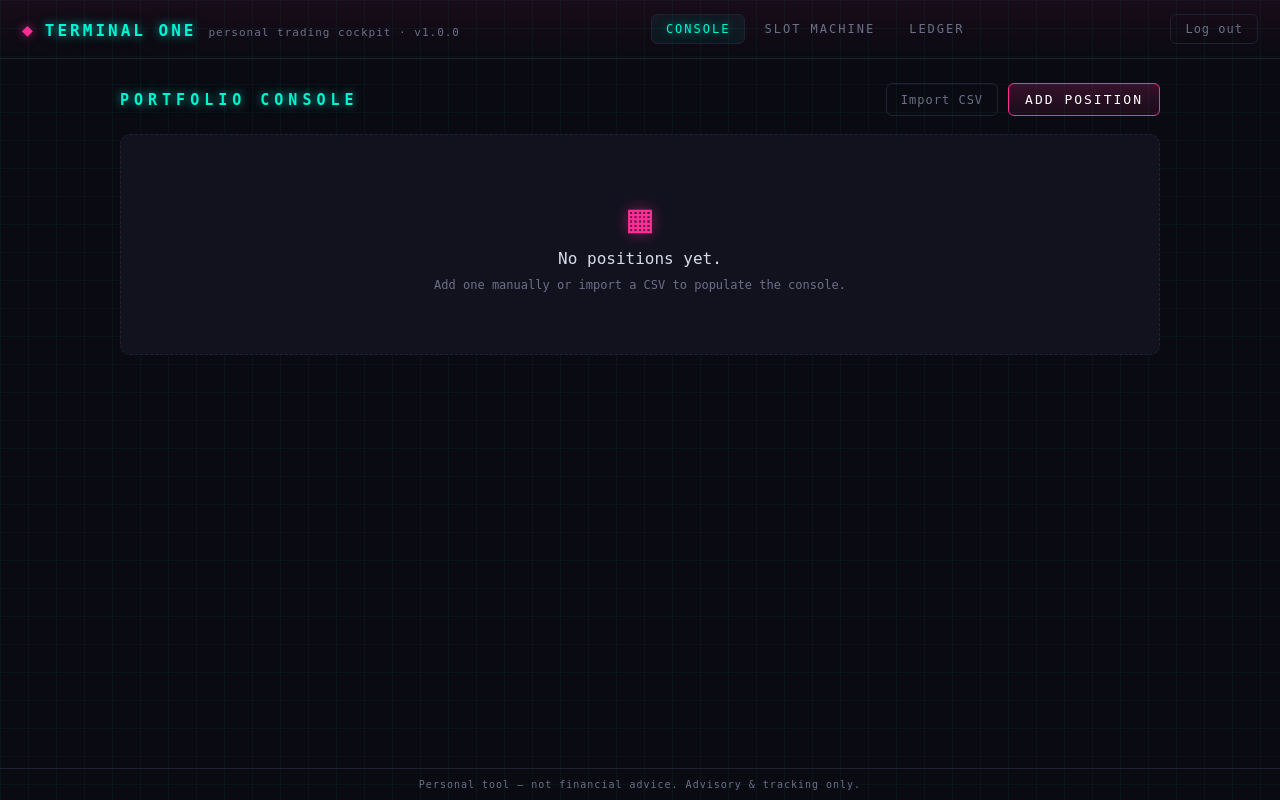
App screens (Phase 7 AC5) › switches to the Slot Machine screen and back, never showing both
expect the heading "PORTFOLIO CONSOLE" is shown: met, box top-left (120, 90), bottom-right (358, 108)
Click the button "Slot Machine".
click(820, 29)  # box top-left (750, 14), bottom-right (890, 44)
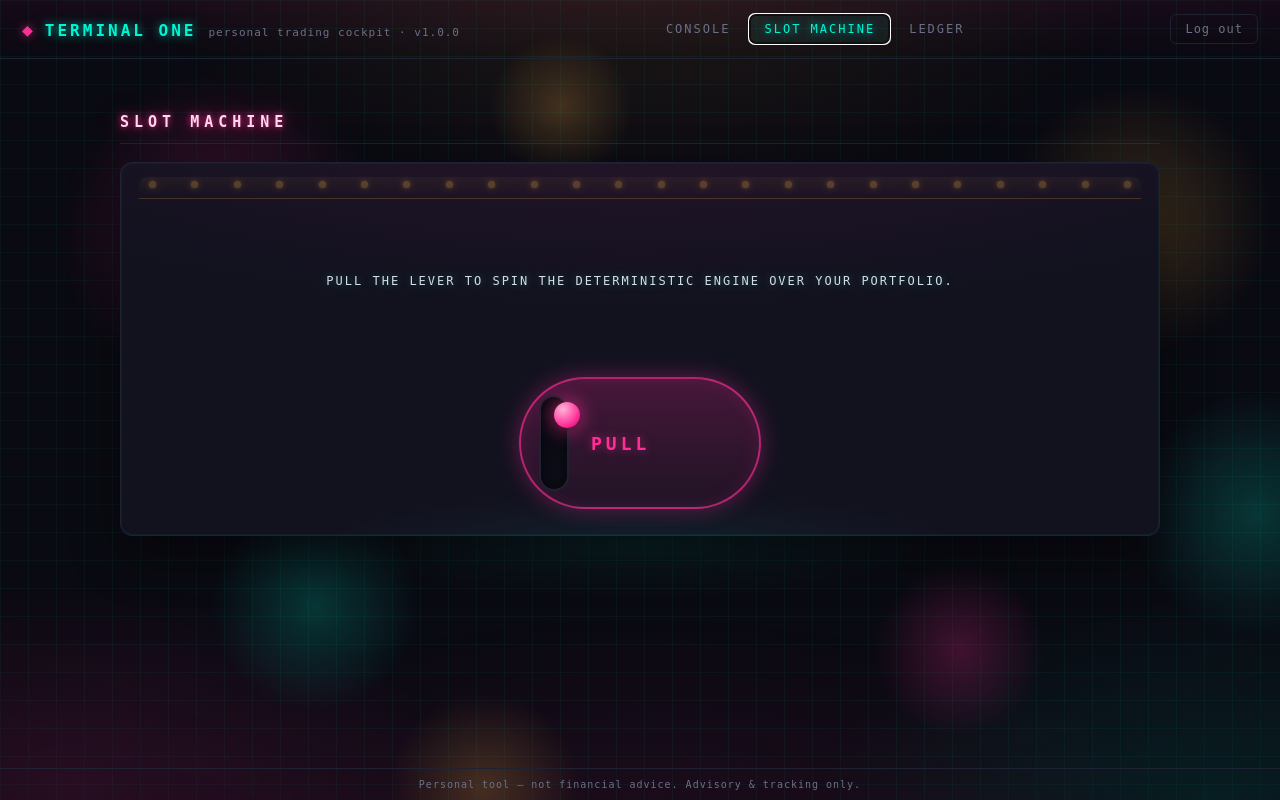
expect the element with test id "slot-machine" is shown: met, box top-left (120, 113), bottom-right (1160, 612)
expect the heading "PORTFOLIO CONSOLE" is gone: met
Click the button "Console".
click(698, 29)  # box top-left (651, 14), bottom-right (746, 44)
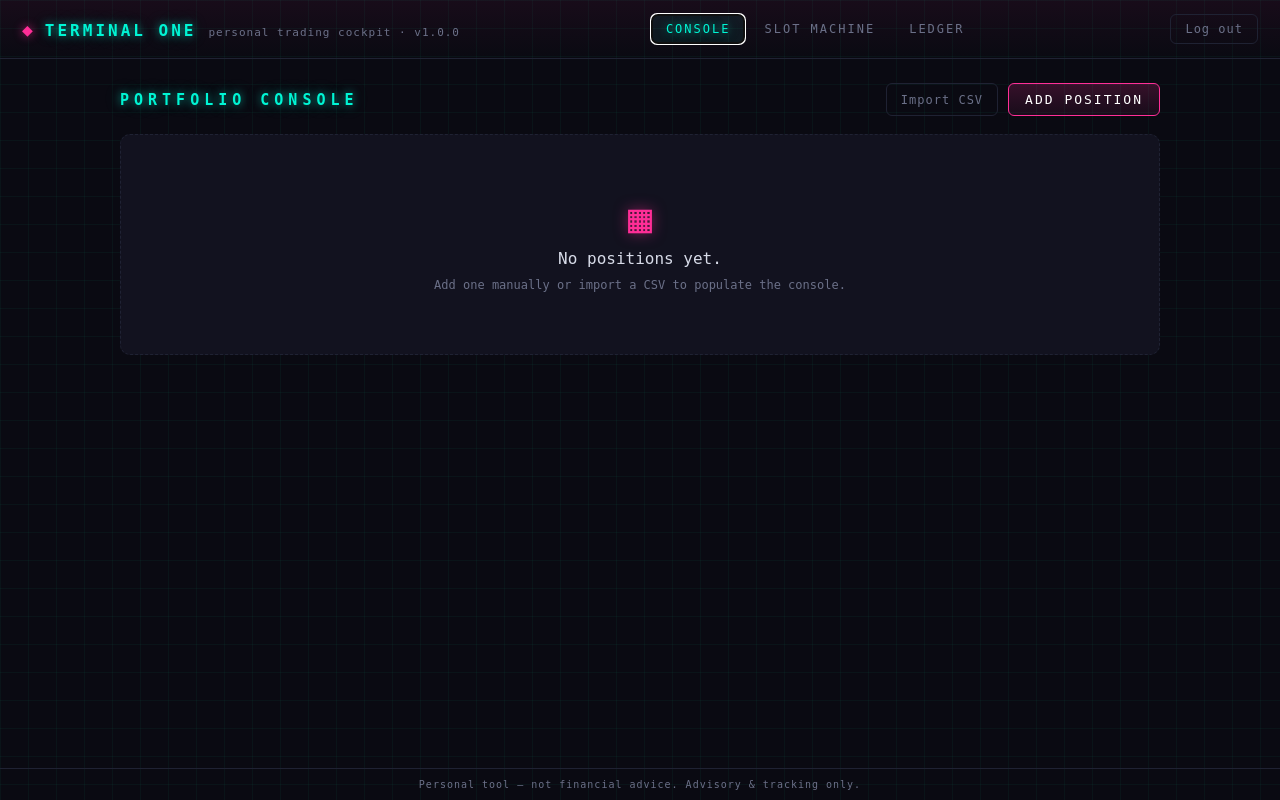
expect the heading "PORTFOLIO CONSOLE" is shown: met, box top-left (120, 90), bottom-right (358, 108)
expect the element with test id "slot-machine" is gone: met
